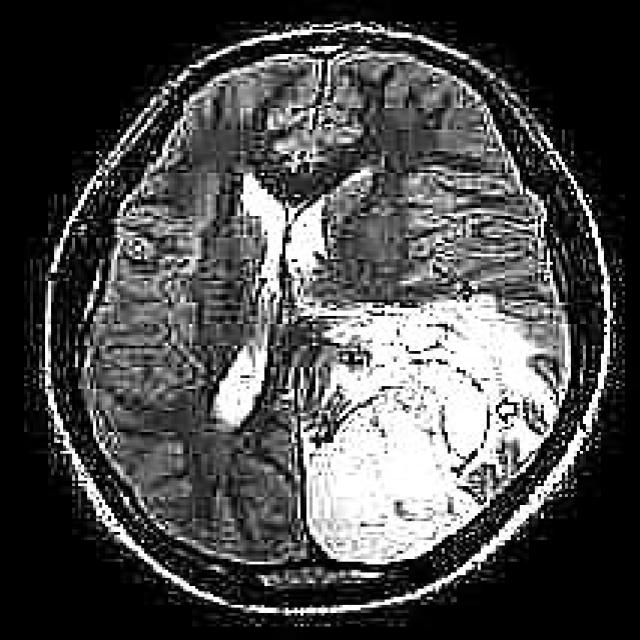Tumor-Cell: (306, 284, 548, 542)
